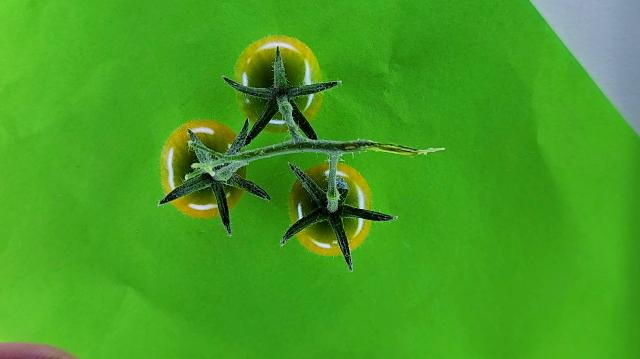Fully Grown: (232, 35, 325, 134), (159, 120, 246, 218), (288, 162, 374, 256)
